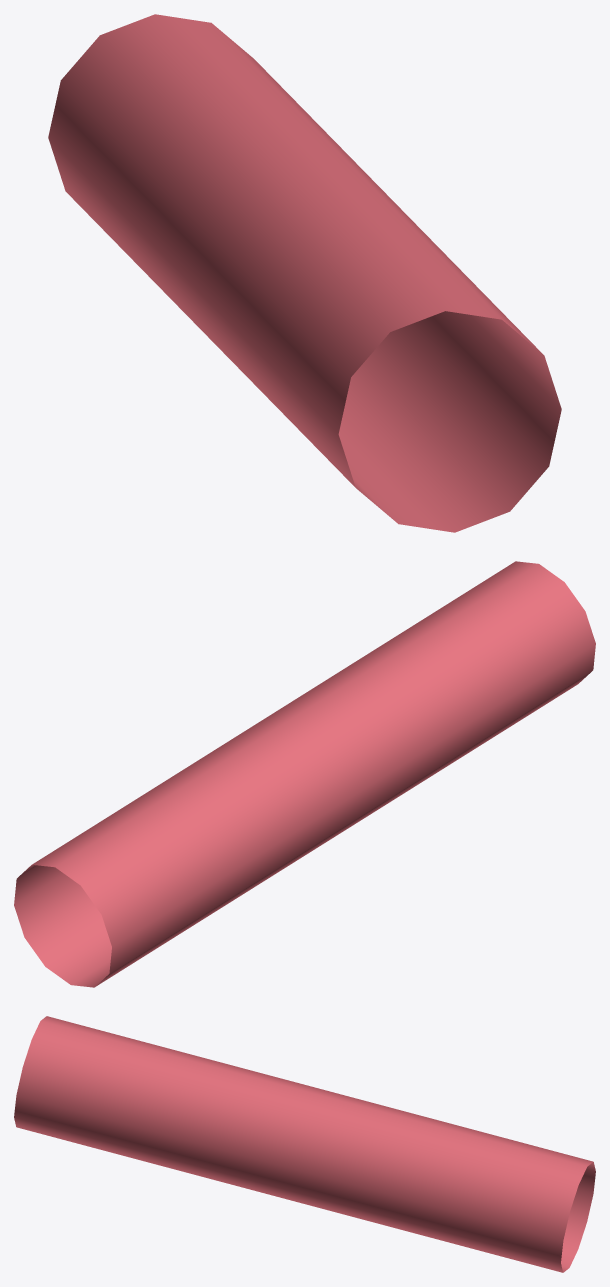
3 renders of one model, top to bottom at view 1: azimuth 30°, elevation 25°; view 2: azimuth 150°, elevation 25°; view 3: azimuth 270°, elevation 25°, orthographic. The views are drawn at different scales.
Visible parts, largest first — view 1: ZA_3df6890f4de2c043; view 2: ZA_3df6890f4de2c043; view 3: ZA_3df6890f4de2c043.
Boxes of the visible parts, <box> form: ZA_3df6890f4de2c043: <box>48,14,561,532</box>; ZA_3df6890f4de2c043: <box>14,561,595,987</box>; ZA_3df6890f4de2c043: <box>14,1016,595,1272</box>.
Size of the model in its own units: 0.0045 by 0.00356 by 0.0101.
